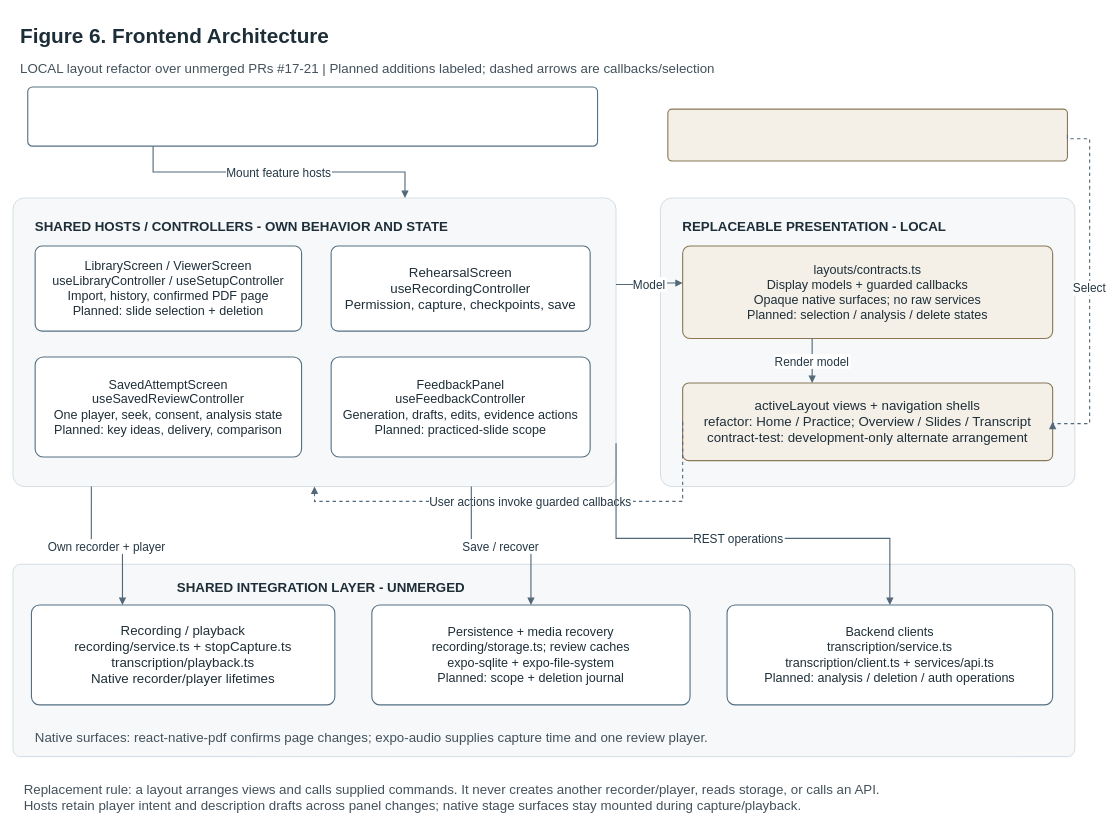
The diagram is 1120 pixels wide and 832 high, and some of its shapes have lost their labels. The centre of each missing label's shape, as x and y in pixels:
Expo Router src/app: route parameters + screen mounting: point 312,116
registry.ts + selection.ts EXPO_PUBLIC_UI_LAYOUT selects once at launch: point 867,134
